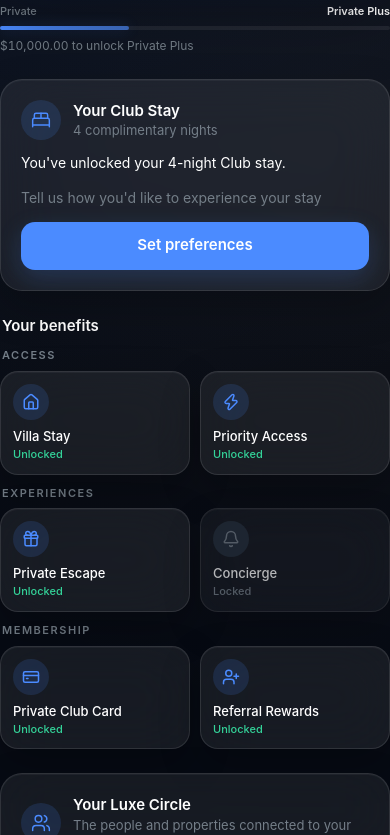
Test case: Club page › benefit tile opens the richer detail sheet
The width and height of the screenshot is (390, 835).
(page scrolled)
Click the button with test id "club-benefit" at (95, 423), box [0,371,190,475]
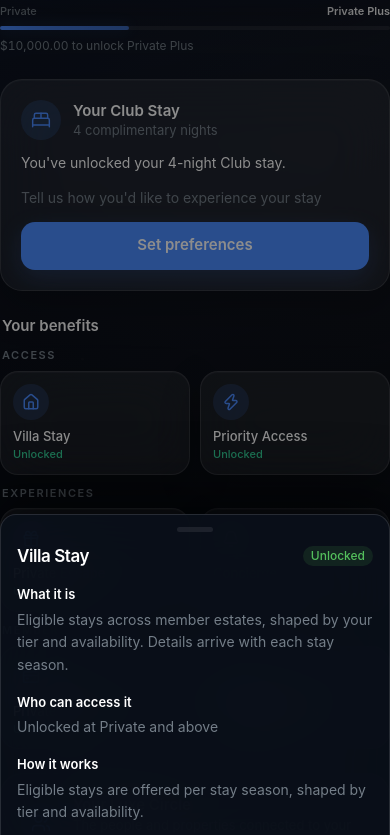
expect the heading "Villa Stay" is shown: met, box [17,544,89,569]
expect the dialog with test id "sheet-panel" shows "Villa Stay": met, box [17,546,89,566]
expect the dialog with test id "sheet-panel" shows "What it is": met, box [17,586,75,602]
